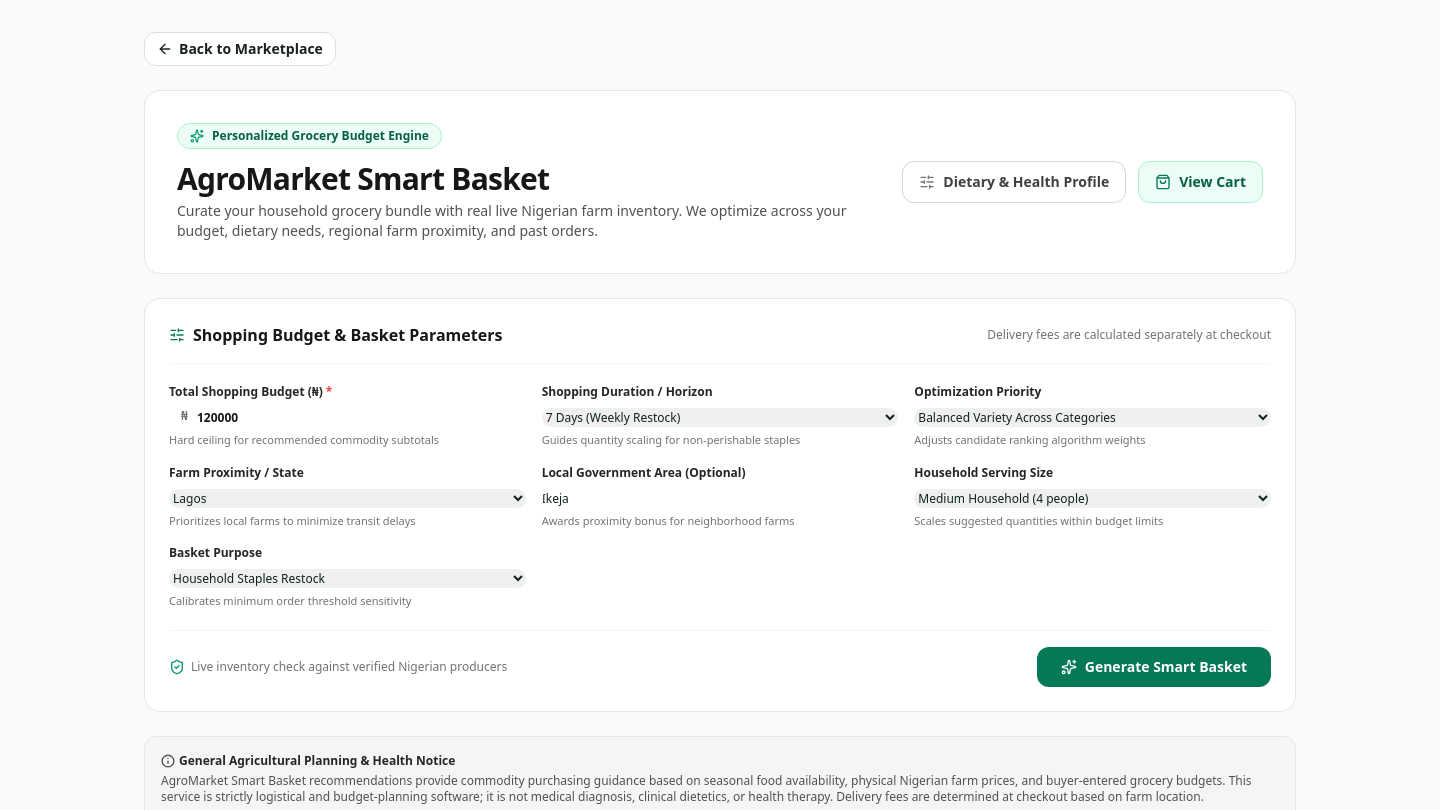
Test: SmartBasketView UI Component Suite › 3. Basket Generation & Visual Result Rendering › renders generated produce items with real photographs, unit prices, and subtotals
This screenshot has width=1440, height=810.
Click the button "Generate Smart Basket" at (1154, 666), box x1=1037 y1=646 x2=1271 y2=686
(page scrolled)
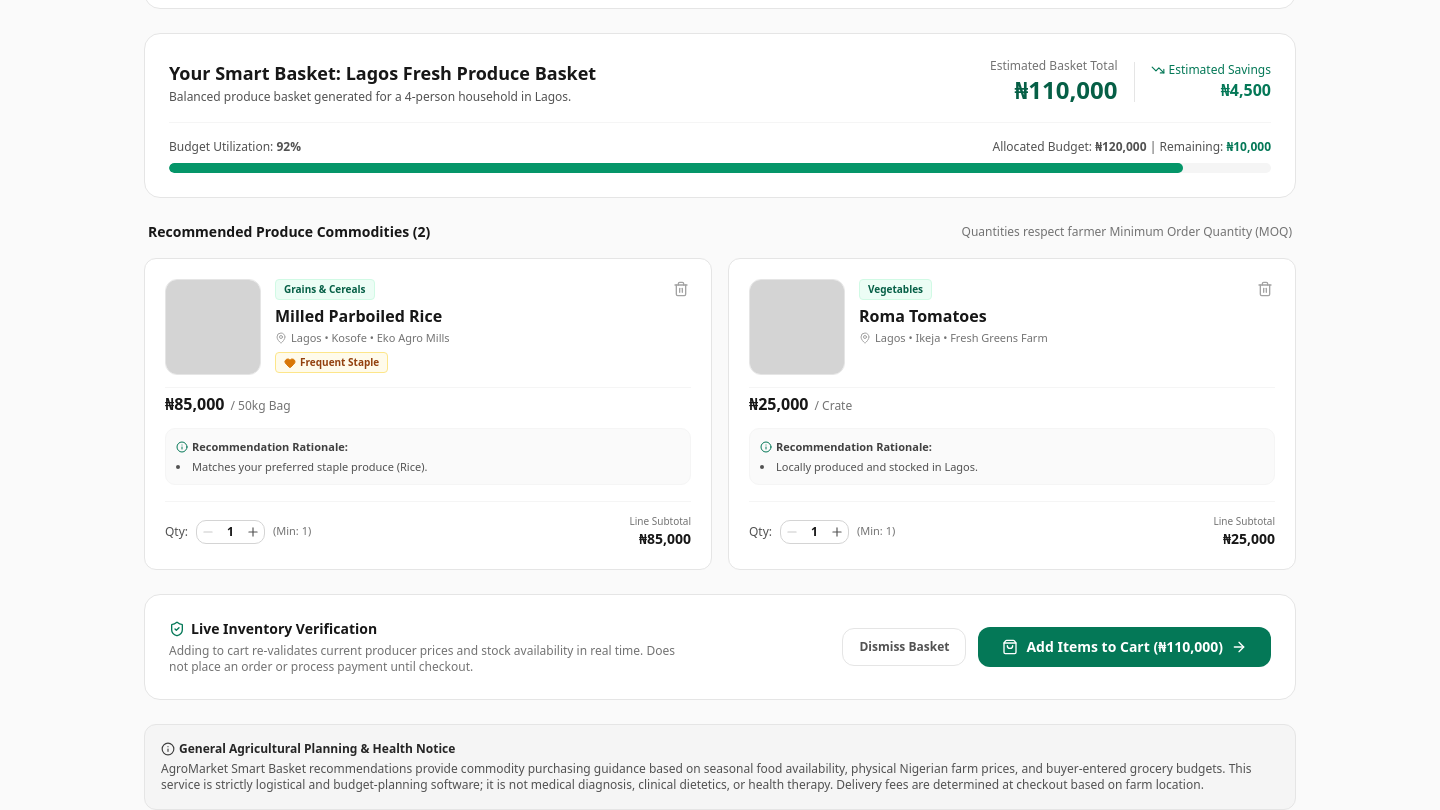
Expected: the heading "Milled Parboiled Rice" is shown, x1=275 y1=304 x2=442 y2=326
Expected: the heading "Roma Tomatoes" is shown, x1=859 y1=304 x2=987 y2=326
Expected: the text "₦110,000" is shown, x1=1015 y1=72 x2=1118 y2=106
